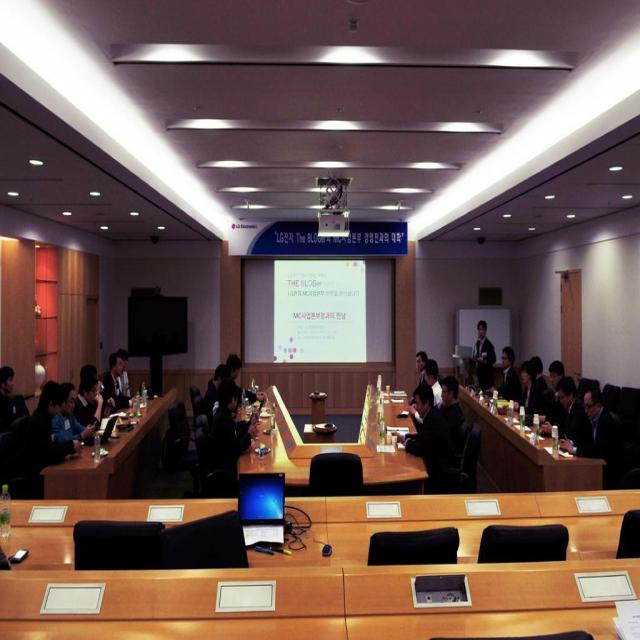Table: (309, 388, 329, 418)
